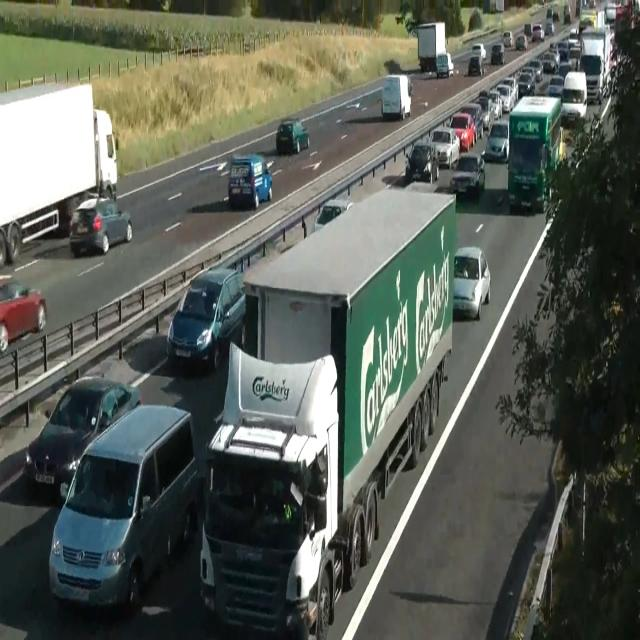bus: (23, 375, 141, 502), (166, 266, 246, 370), (68, 196, 132, 257), (0, 281, 47, 353), (452, 245, 490, 320), (227, 152, 273, 210), (427, 127, 460, 169), (314, 199, 354, 233), (276, 118, 310, 155), (481, 121, 509, 163), (461, 103, 484, 140), (472, 95, 494, 130), (515, 67, 535, 97), (525, 58, 543, 82), (548, 74, 564, 100), (540, 51, 558, 74), (488, 90, 502, 119), (490, 43, 506, 65), (468, 55, 484, 76), (604, 4, 618, 24), (531, 22, 545, 42), (472, 42, 486, 61), (578, 16, 594, 32), (568, 27, 580, 48), (502, 30, 514, 47), (516, 34, 528, 50), (446, 52, 454, 76), (545, 18, 554, 36), (524, 22, 532, 40)
car: (199, 340, 339, 638)
jeep: (404, 20, 606, 204), (48, 402, 199, 612), (450, 153, 486, 196), (561, 70, 587, 124), (405, 142, 439, 182), (446, 111, 476, 150)
minibus: (198, 186, 458, 638), (0, 80, 118, 267), (507, 94, 566, 214), (417, 22, 453, 78), (381, 73, 413, 120)
